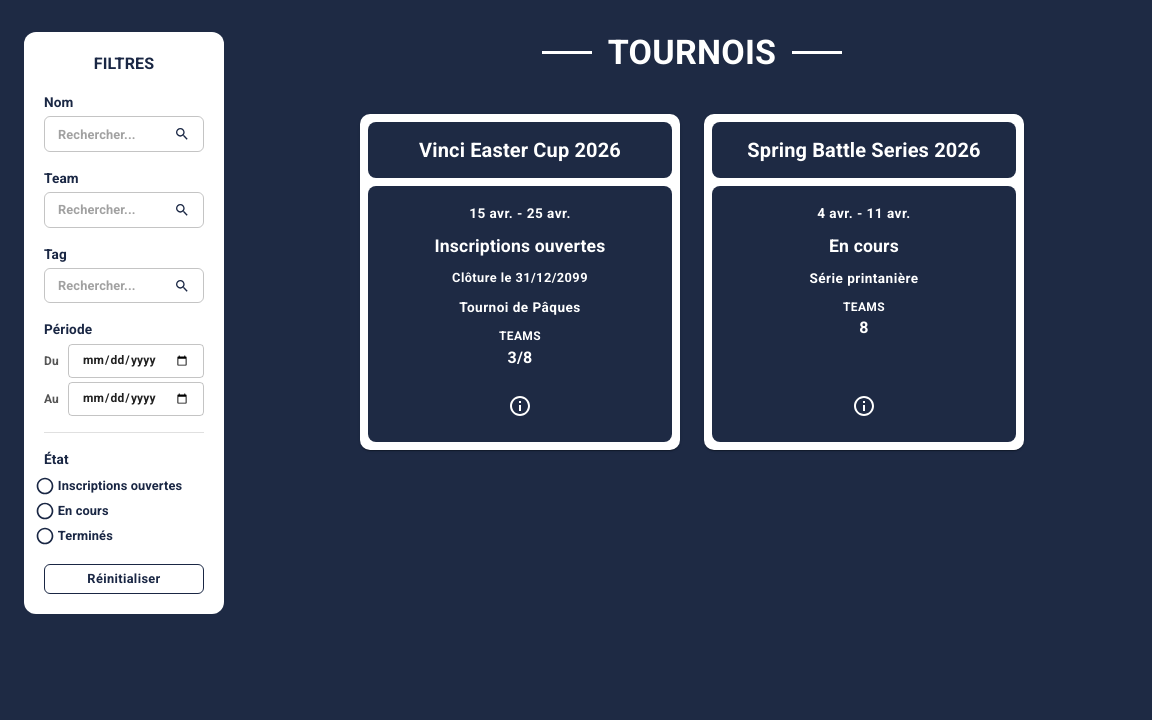
Test case: TournamentsPage › filtre par statut "En cours"
Expected: the heading "Spring Battle Series 2026" is shown, [747,138,981,162]
Click the radio button labelled "En cours": (72, 511) [35,501,109,521]
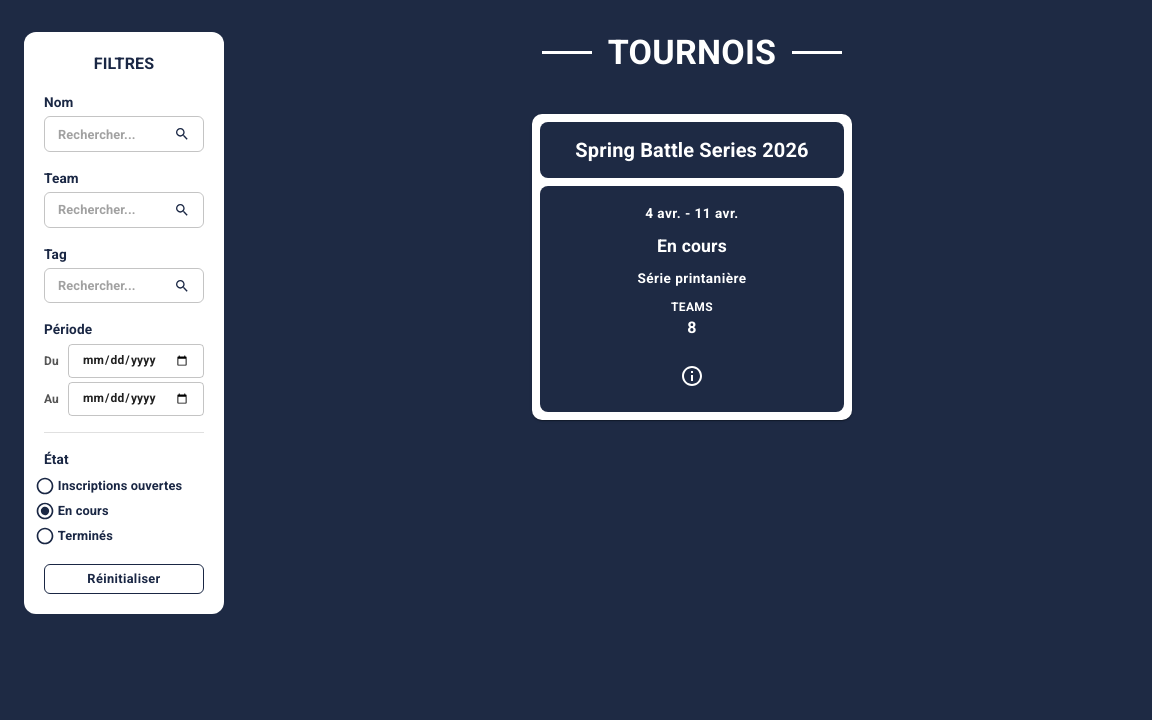
Expected: the heading "Spring Battle Series 2026" is shown, [575,138,809,162]
Expected: the heading "Vinci Easter Cup 2026" is gone
